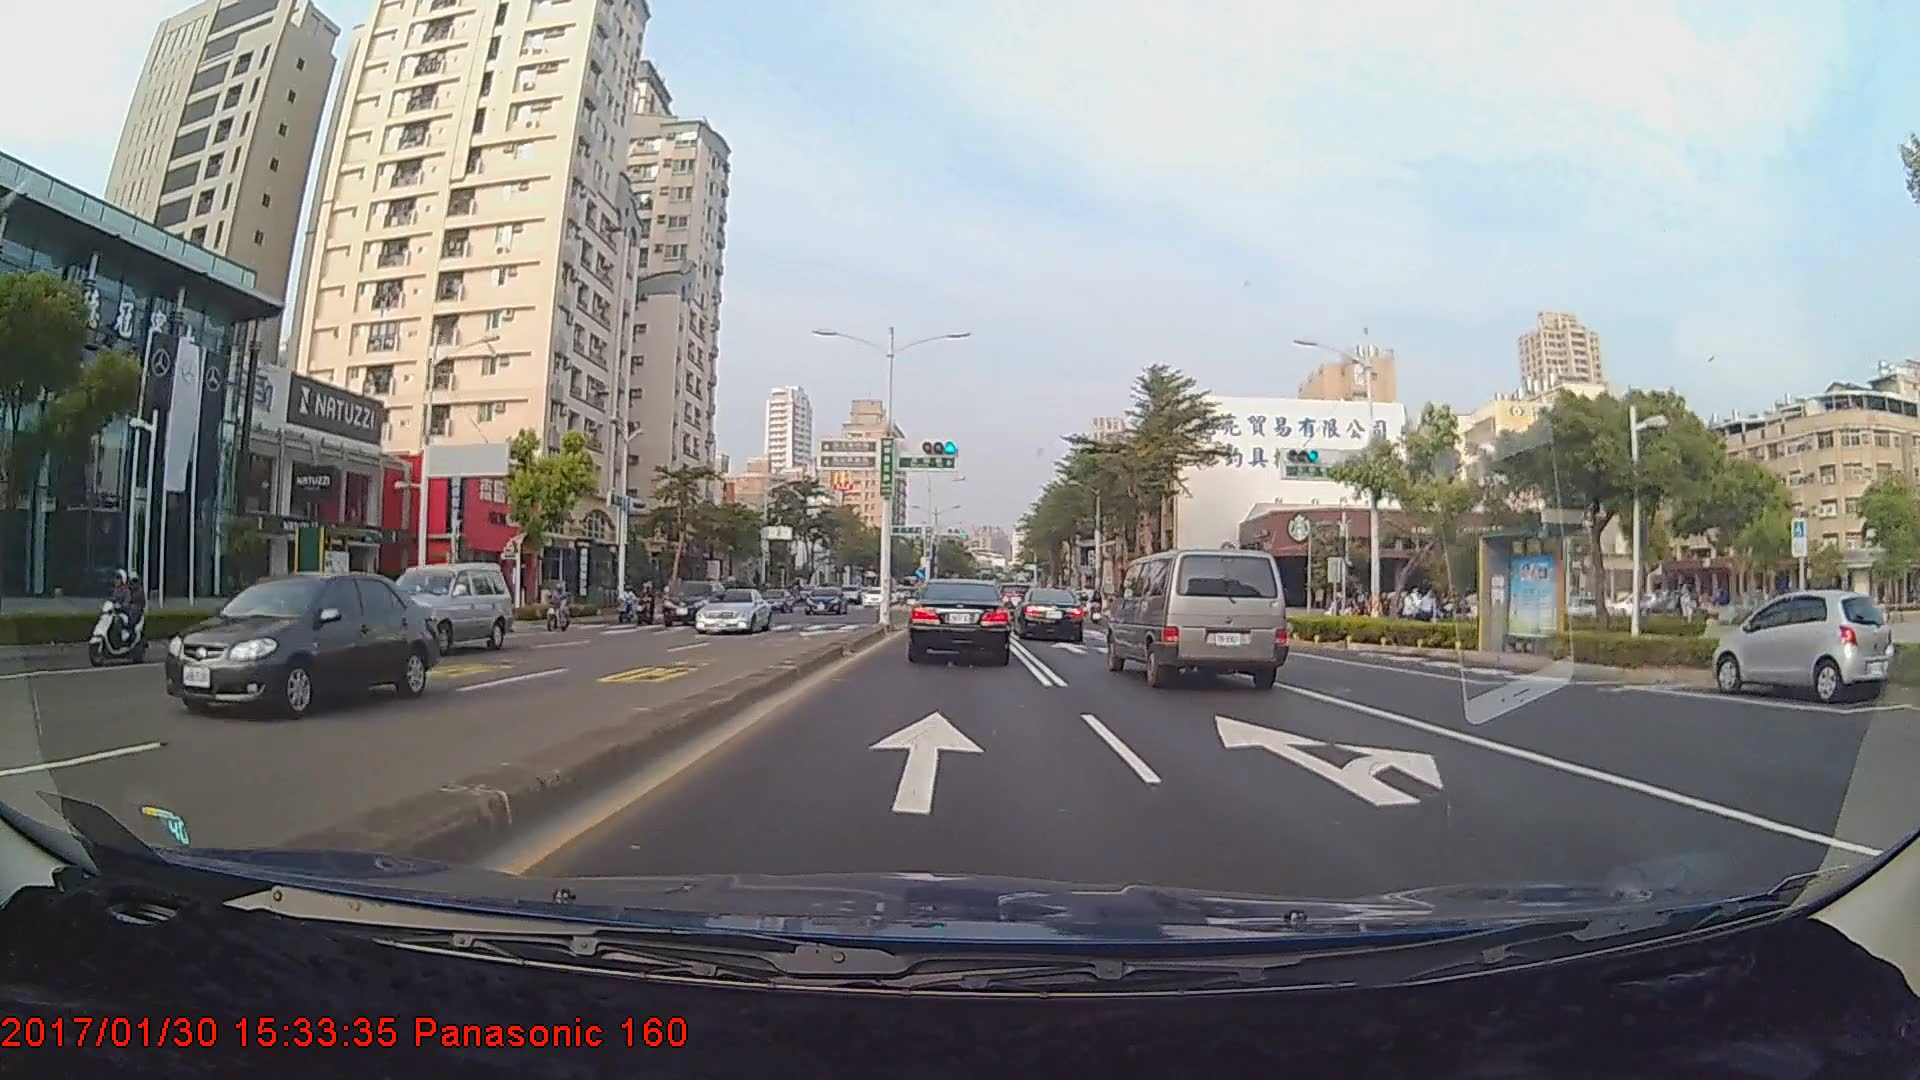rider: (83, 563, 156, 670), (540, 578, 577, 633), (631, 578, 659, 630), (614, 586, 638, 627)
vehicle: (158, 568, 436, 723), (1108, 543, 1289, 691), (1713, 587, 1894, 704), (354, 559, 513, 650), (909, 576, 1011, 662), (1013, 588, 1084, 641), (693, 587, 771, 634), (660, 577, 727, 627), (805, 583, 846, 616)
